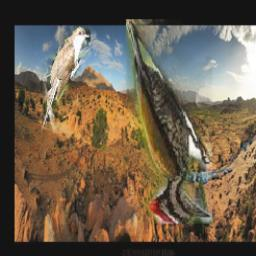Cuckoo: (41, 27, 89, 134)
Woodpecker: (125, 19, 211, 224)
